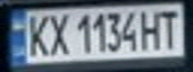1: (72, 10, 93, 54), (90, 9, 109, 53)
3: (106, 9, 124, 53)
4: (121, 8, 142, 52)
H: (139, 7, 163, 51)
K: (21, 11, 51, 57)
T: (154, 7, 184, 50)
X: (45, 10, 72, 56)
